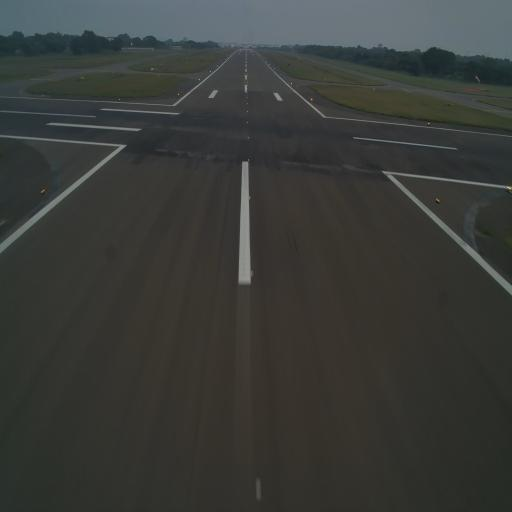on: (248, 264, 257, 278), (433, 194, 443, 206), (38, 185, 46, 199), (247, 154, 252, 165), (246, 132, 251, 142), (248, 192, 252, 202)
